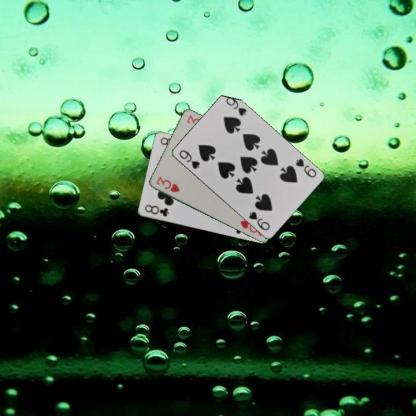3h: (153, 174, 181, 193)
8c: (142, 202, 170, 218)
9s: (176, 147, 201, 170), (292, 156, 317, 179)
